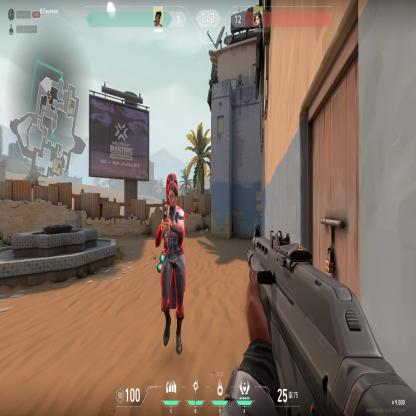enemy: (154, 171, 189, 355)
